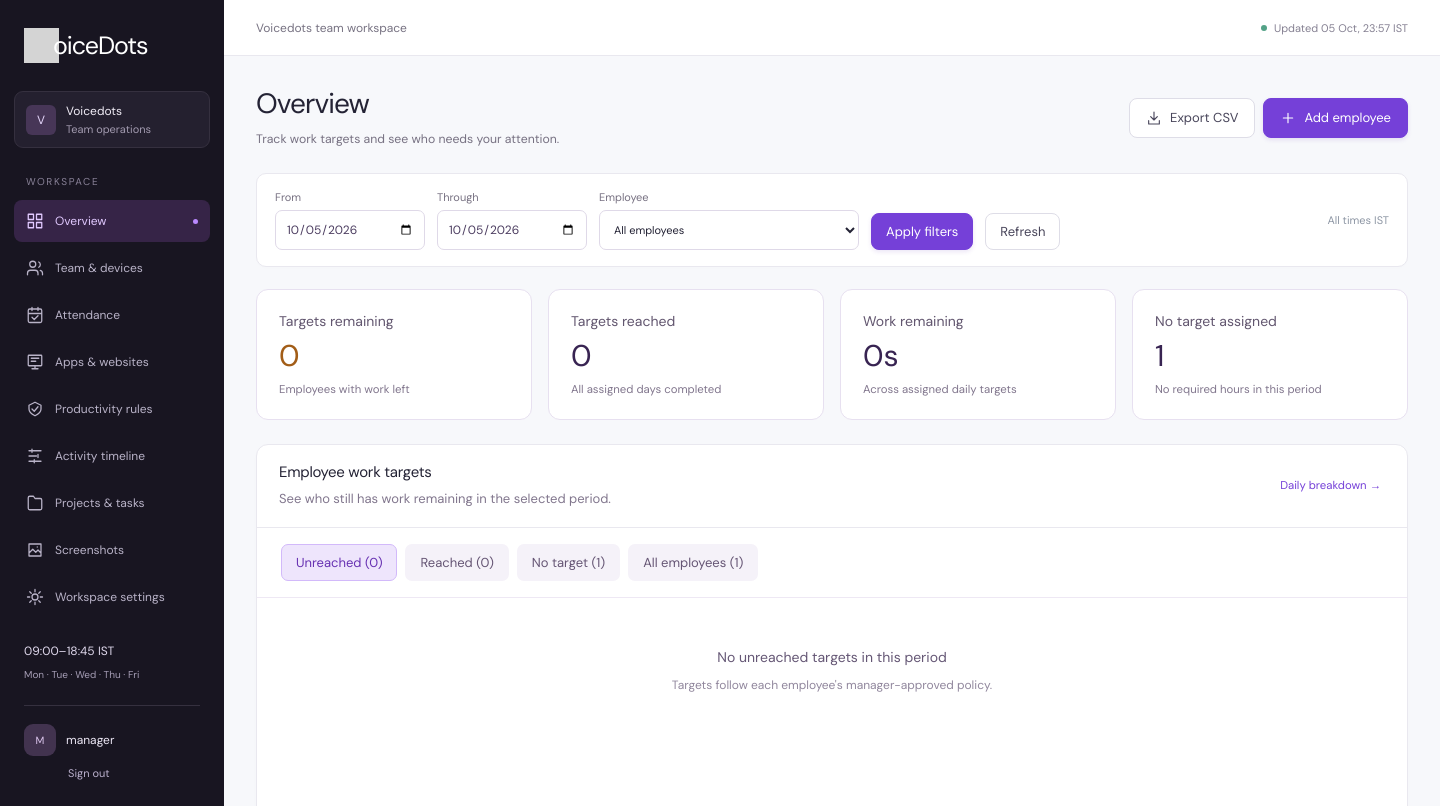
Scenario: React dashboard › creates enrollment codes with CSRF and closes dialogs
Check: the heading "Employee work targets" is shown, box [279, 462, 432, 482]
Click the button "Add employee" at (1336, 118), box [1263, 98, 1408, 138]
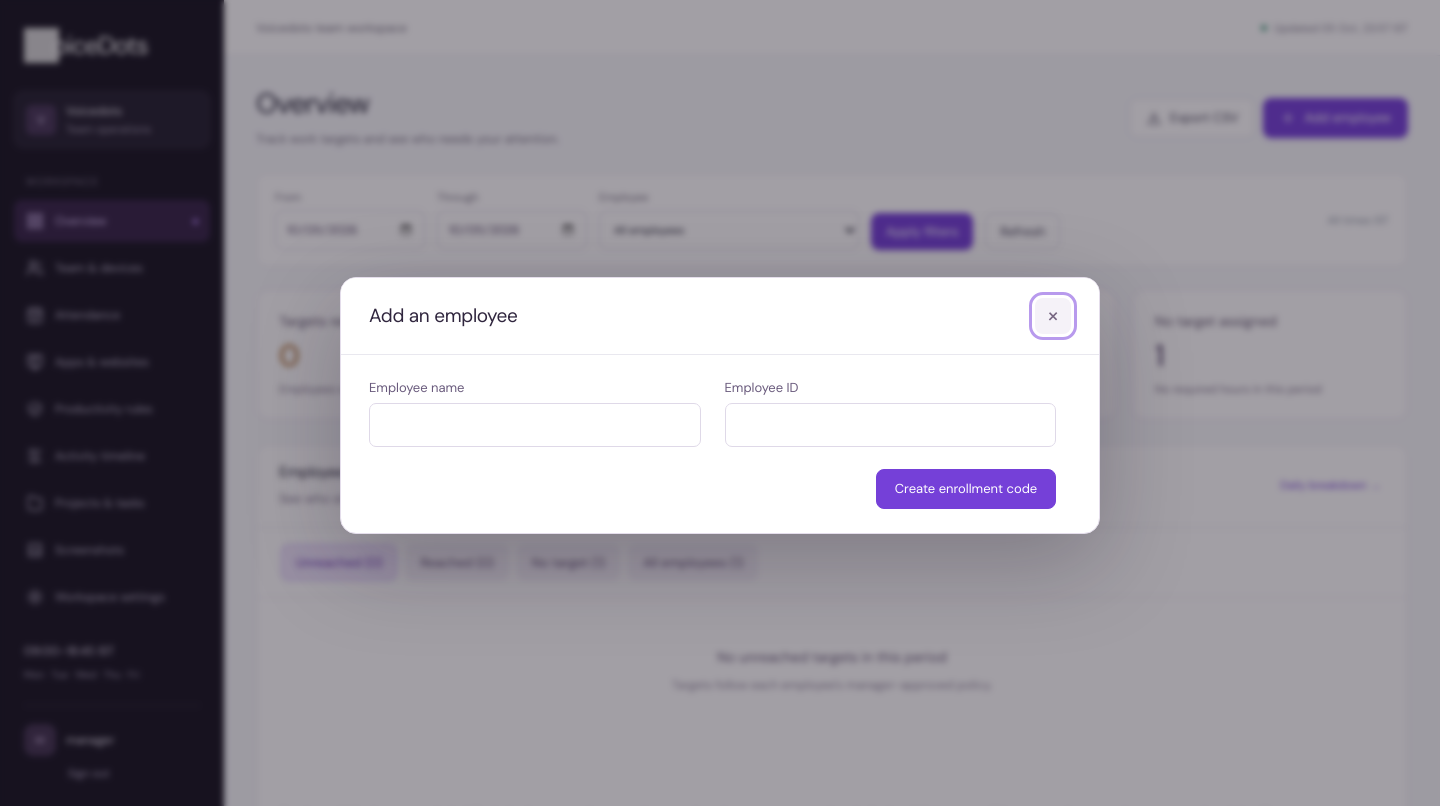
Type "Bob" into the field labelled "Employee name" at (535, 424), box [369, 402, 700, 446]
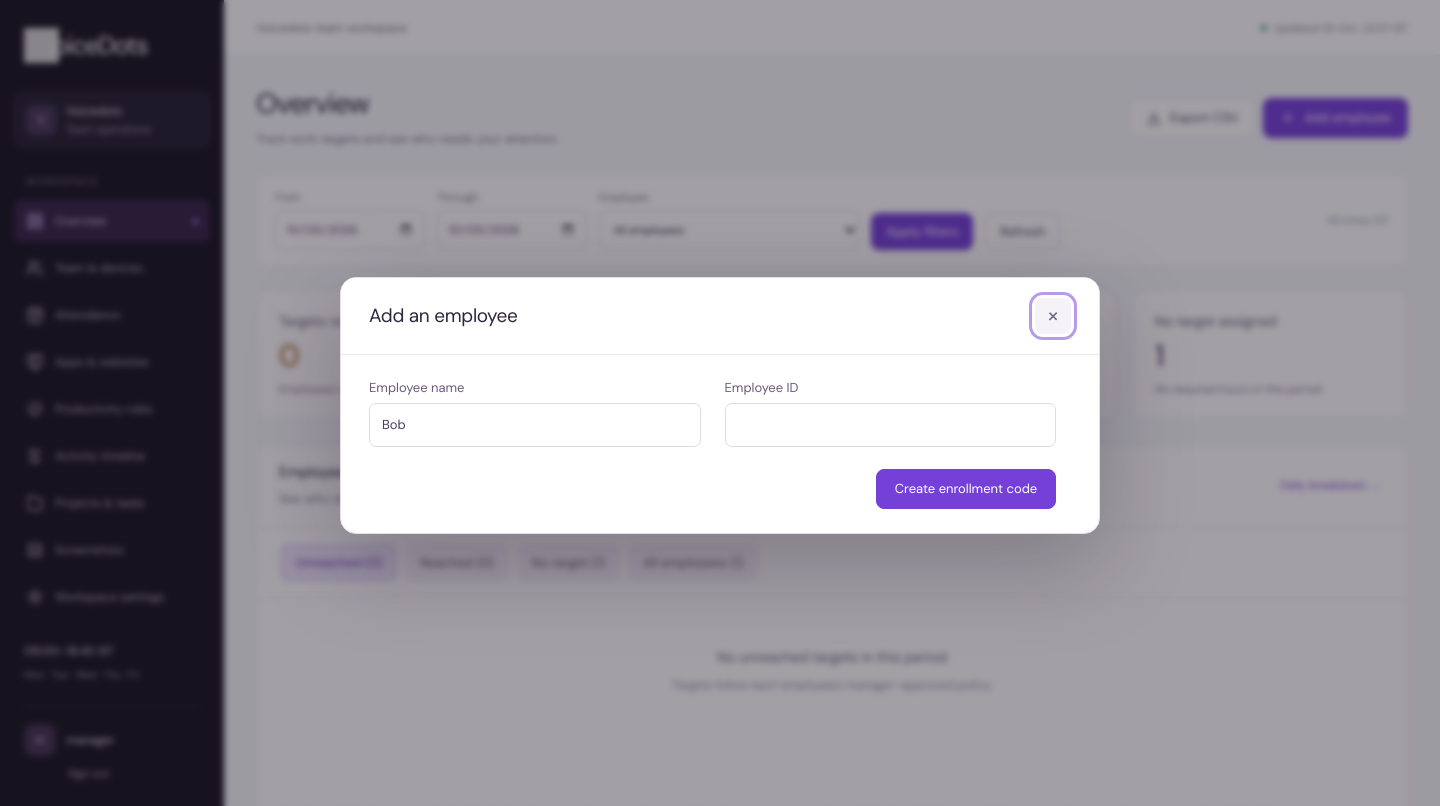
Type "EMP2" into the field labelled "Employee ID" at (890, 424), box [724, 402, 1056, 446]
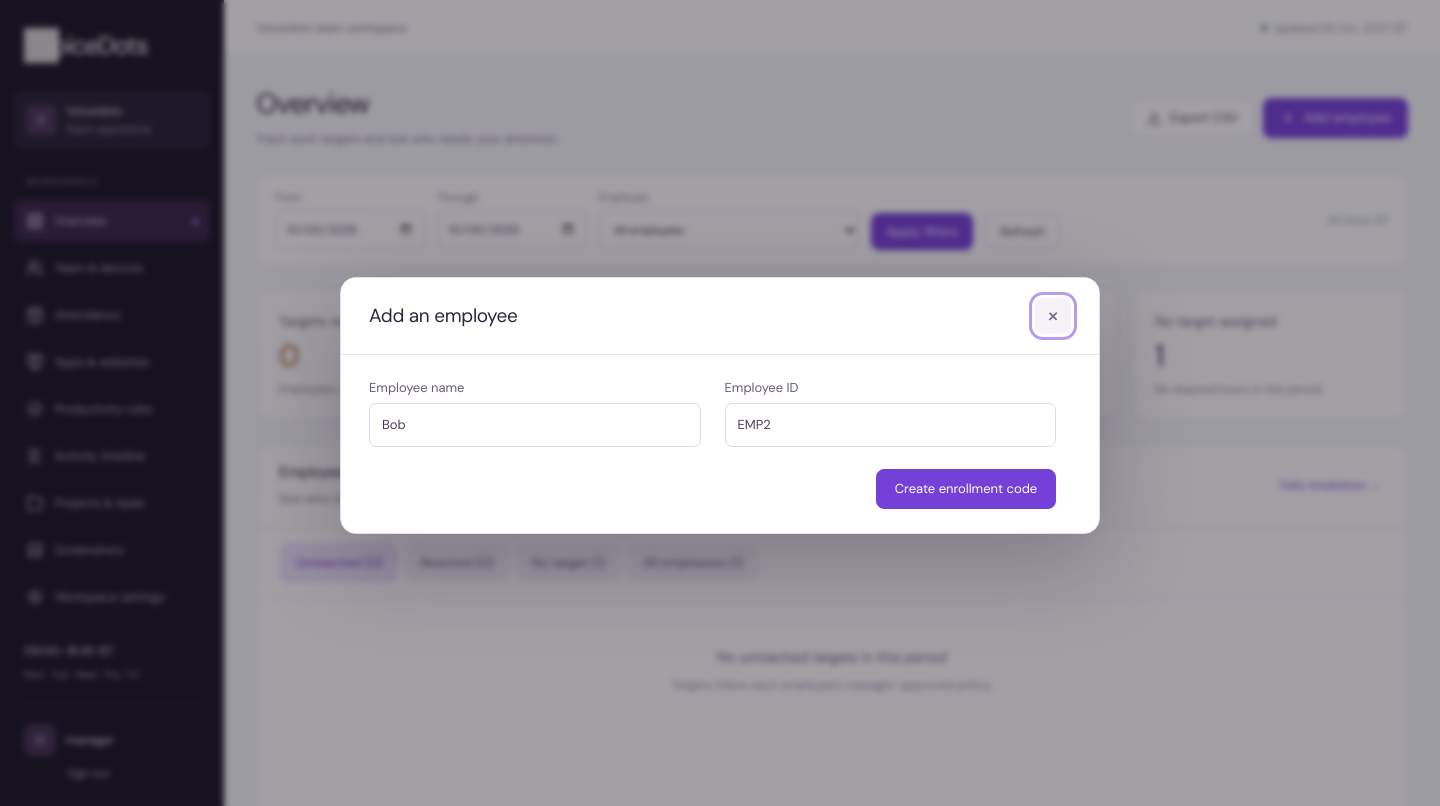
Click the button "Create enrollment code" at (966, 488), box [876, 468, 1056, 508]
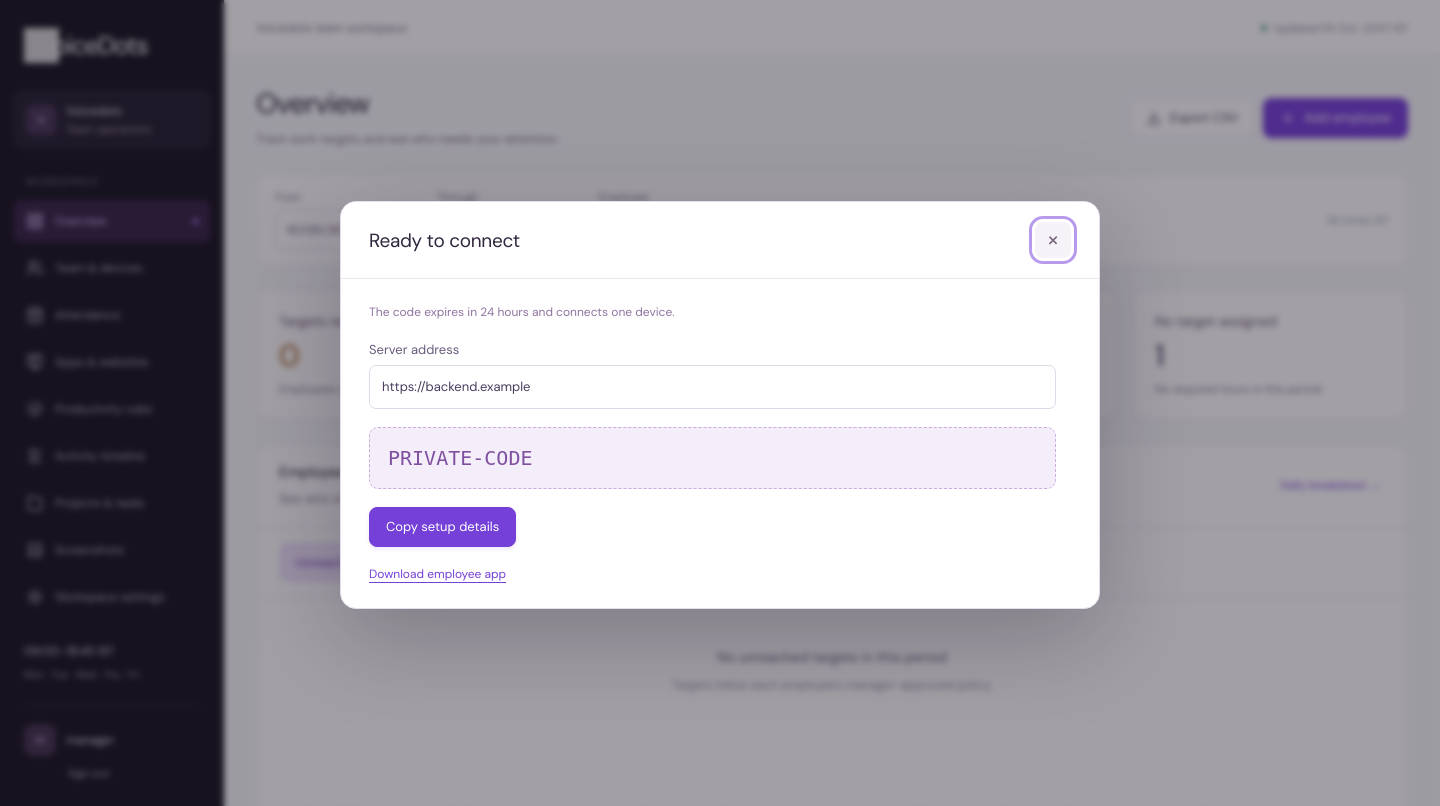
Check: the text "PRIVATE-CODE" is shown, box [369, 426, 1056, 488]
Click the button named "Close dialog" at (1053, 240), box [1035, 222, 1071, 258]
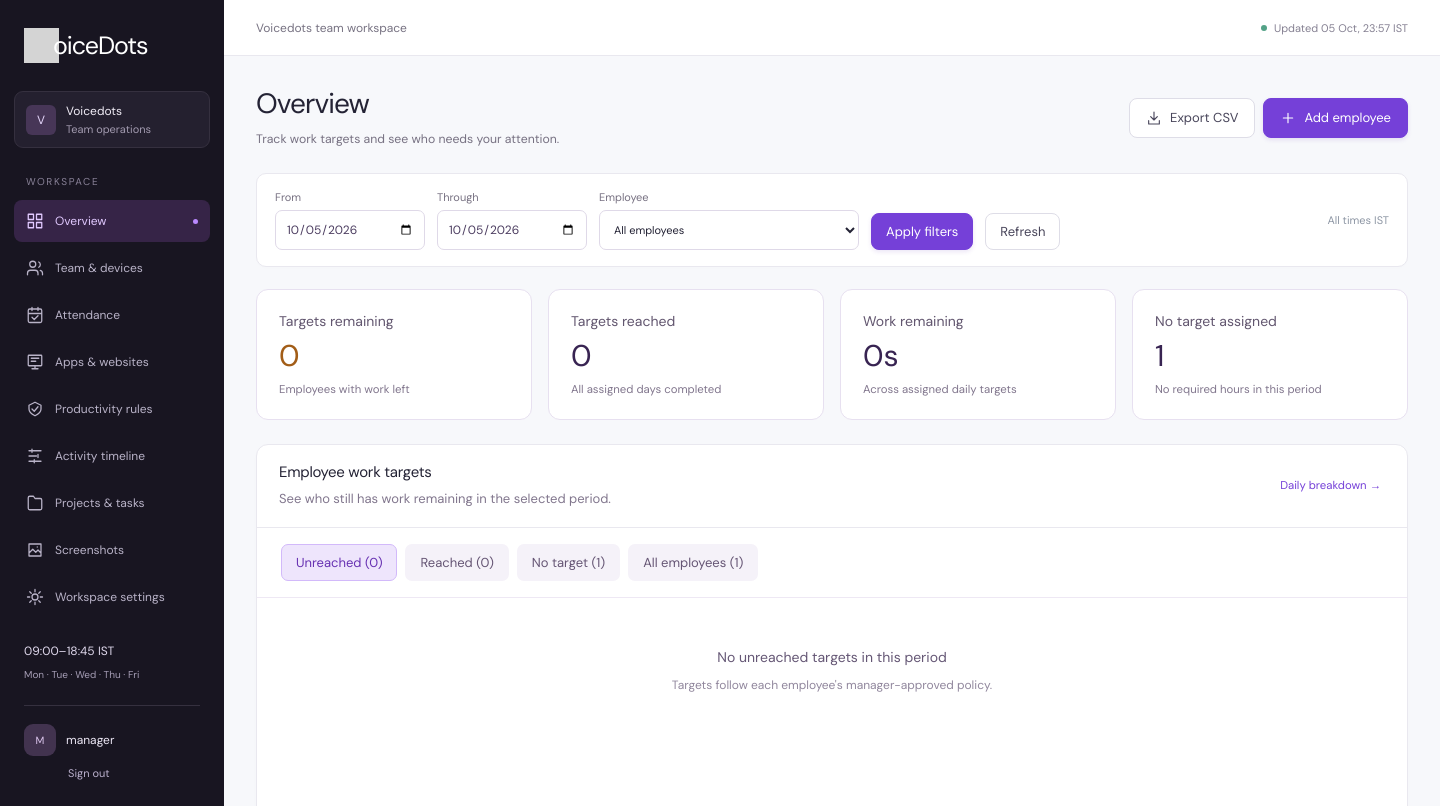
Check: the dialog is gone
